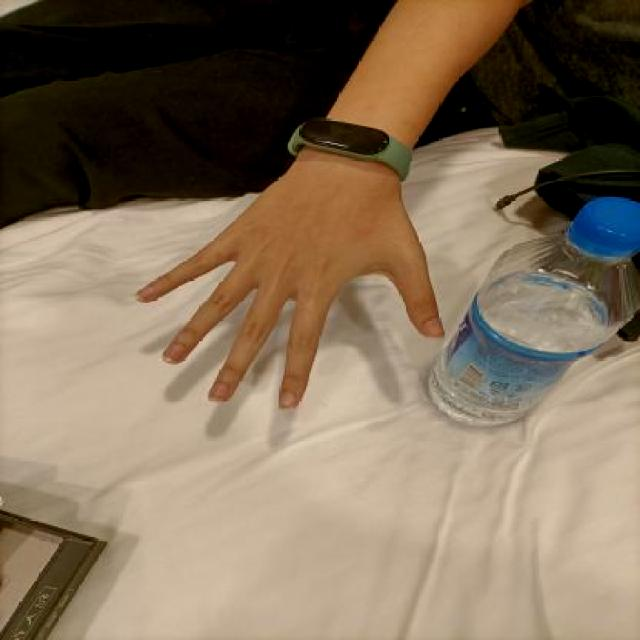no_glove: (112, 114, 477, 428)
